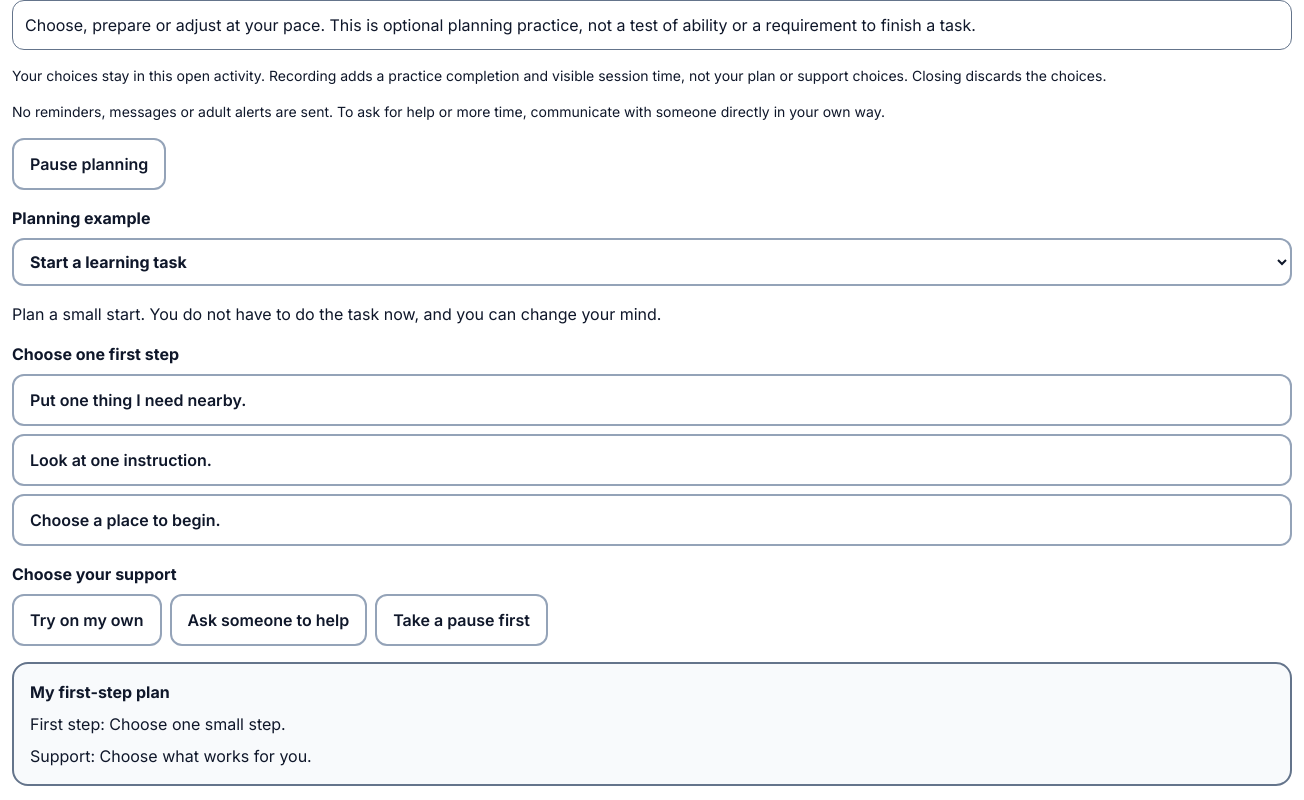
First Step Planner › offers three small steps for example 1
Select "Start something creative" in the dropdown labelled "Planning example" at (652, 262), box [12,238,1292,286]
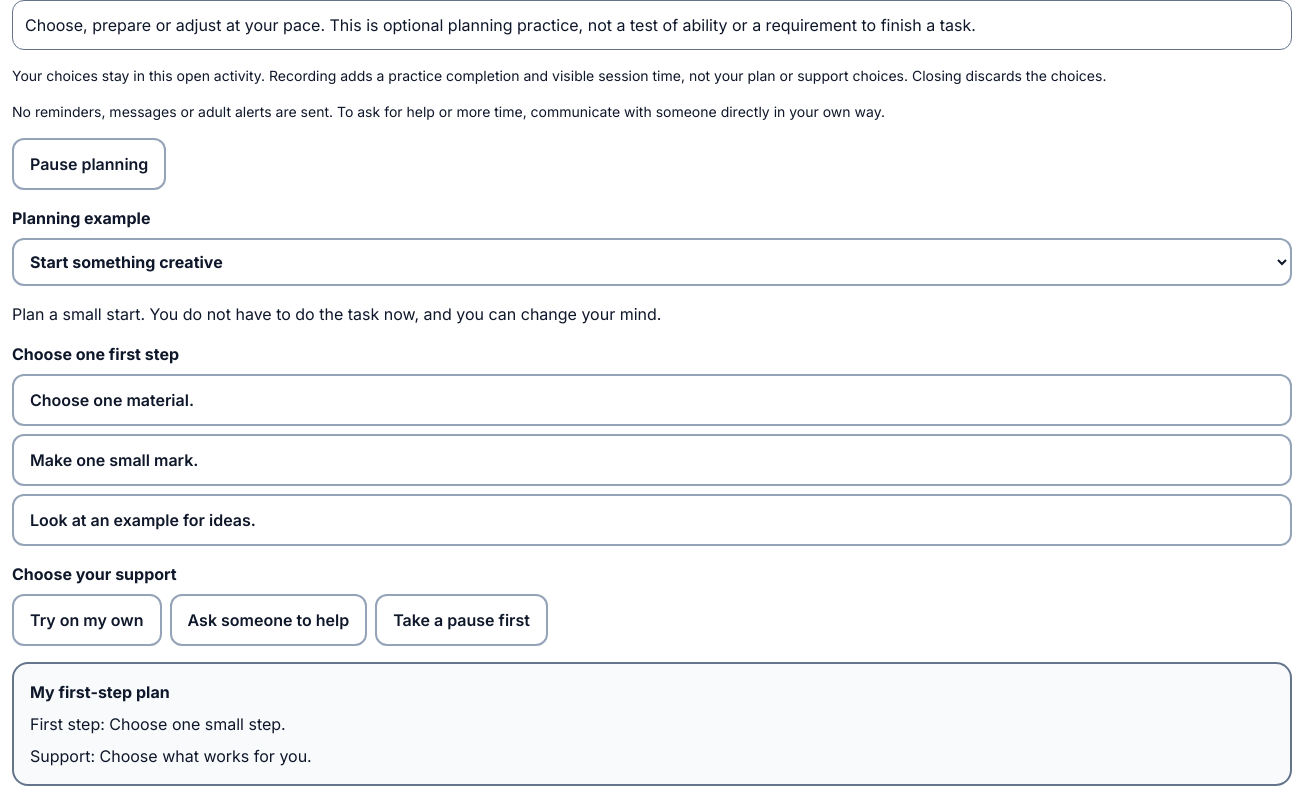
Result: the button "Choose one material." is shown at [12,374,1292,426]
Result: the button "Make one small mark." is shown at [12,434,1292,486]
Result: the button "Look at an example for ideas." is shown at [12,494,1292,546]
